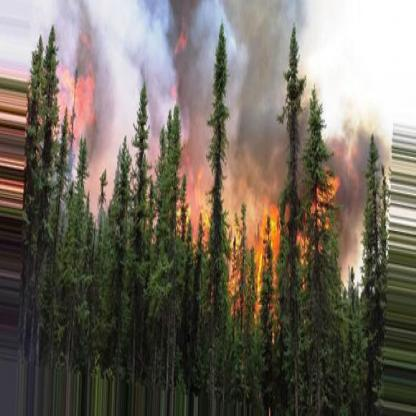fire: (162, 156, 339, 333), (50, 62, 98, 173)
